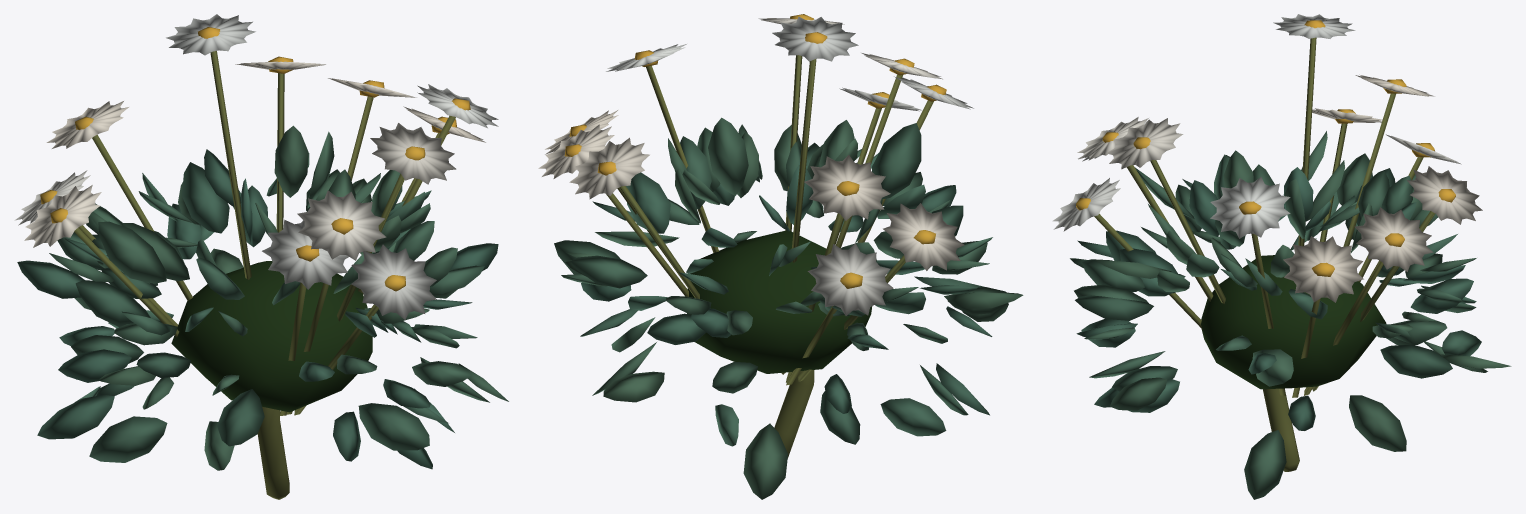
The model's file is potfill_marguerite.glb.
The picture shows the model from 3 angles, left to right: view 1: azimuth 30°, elevation 25°; view 2: azimuth 150°, elevation 25°; view 3: azimuth 270°, elevation 25°; orthographic projection. The views are drawn at different scales.
Parts seen in each view (by area): view 1: Sammel Pflanze, Sammel Blatt, Sammel Putz; view 2: Sammel Pflanze, Sammel Blatt, Sammel Putz; view 3: Sammel Pflanze, Sammel Blatt, Sammel Putz.
Boxes of the visible parts, x1,y1,x2,y2 form: Sammel Pflanze: (14, 14, 508, 470); Sammel Blatt: (171, 261, 372, 412); Sammel Putz: (74, 51, 455, 499); Sammel Pflanze: (538, 14, 1023, 499); Sammel Blatt: (687, 230, 872, 373); Sammel Putz: (606, 55, 933, 458); Sammel Pflanze: (1052, 14, 1511, 499); Sammel Blatt: (1201, 255, 1386, 389); Sammel Putz: (1094, 37, 1435, 471).
Size of the model in its own units: 0.4047 by 0.4048 by 0.3948.
